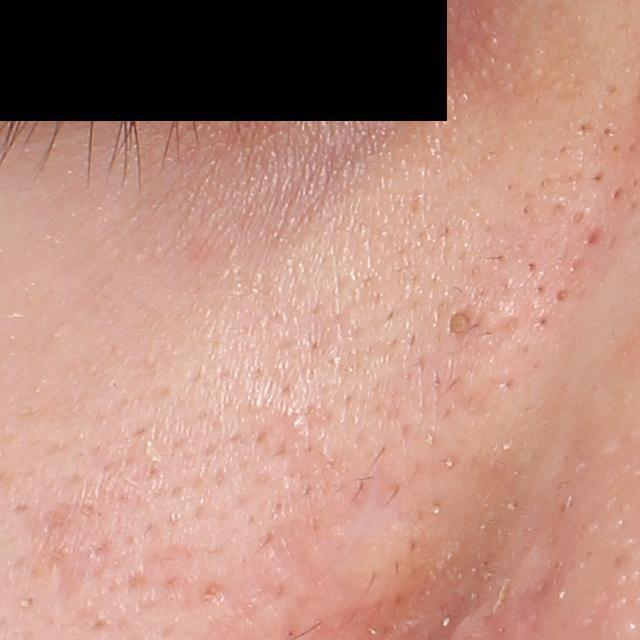atrophic_scar: (198, 580, 229, 609)
comedo: (441, 301, 478, 346), (288, 412, 309, 430), (554, 285, 573, 302)
hypertrophic_scar: (329, 490, 473, 611)
